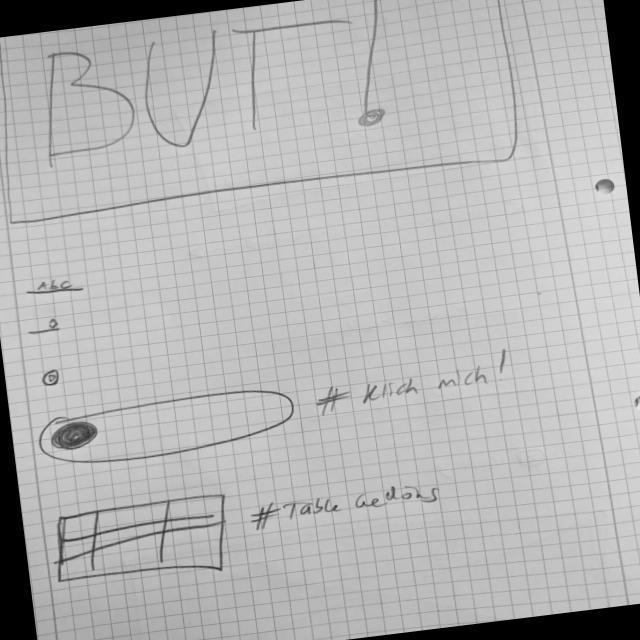button: (1, 1, 530, 227)
icon-button: (40, 367, 64, 391)
input: (22, 273, 91, 302)
label: (313, 347, 520, 420), (246, 479, 447, 533)
number-input: (25, 314, 65, 339)
table: (47, 491, 239, 595)
toggle: (33, 384, 302, 473)
